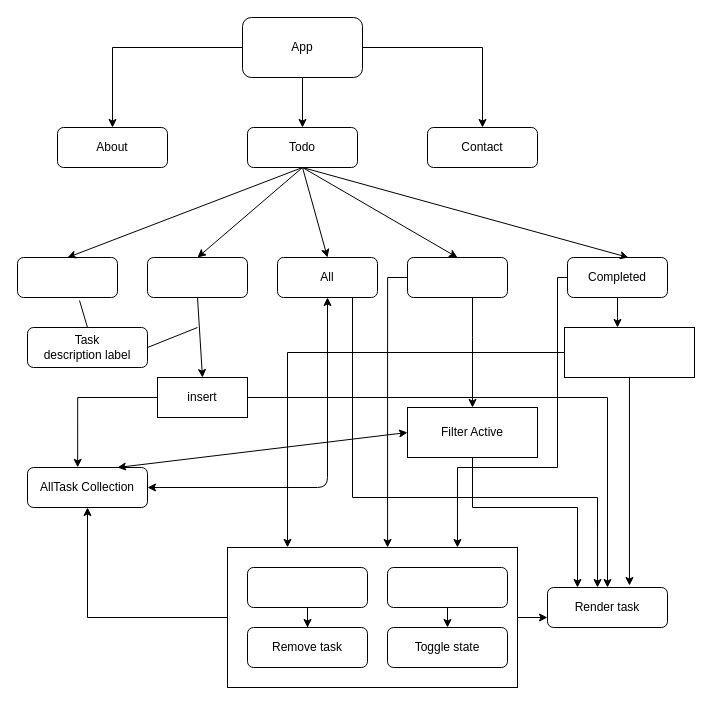
Image size: 712x705. Some labels were removed from this diagram. The shapes that lost their labels are listed below. From the top down, each one's box as (x1, y1, x2, y2) in pixels, then its label:
(16, 256, 118, 298): Input
(146, 256, 248, 298): addTask
(406, 256, 508, 298): Active
(564, 326, 694, 378): Filter Completed
(246, 566, 368, 608): Delete
(386, 566, 508, 608): onCheckBoxChange change state
